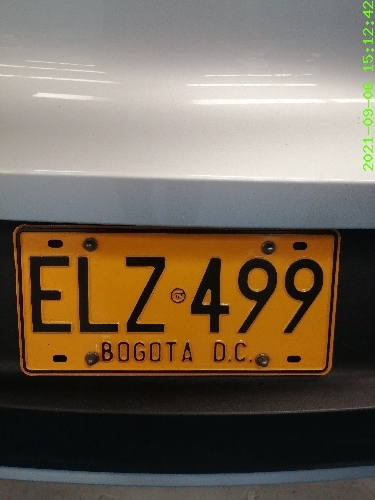number_plate: (15, 225, 340, 374)
